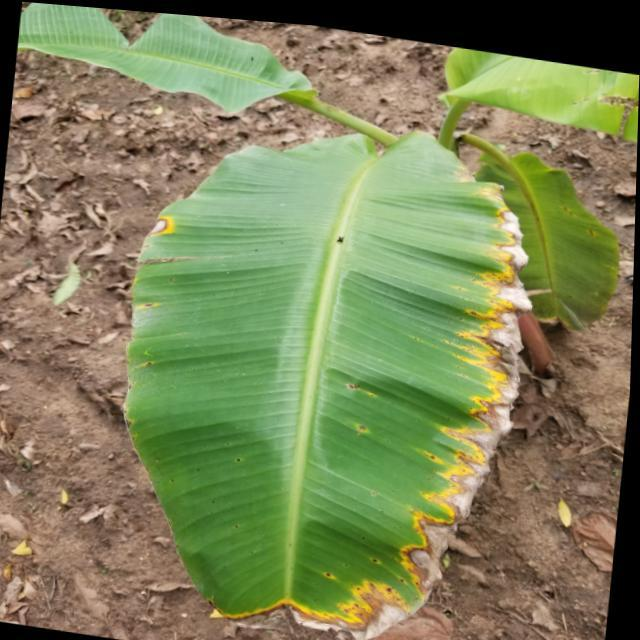Early_rust: (301, 126, 518, 640), (195, 544, 472, 640), (105, 188, 207, 314)
